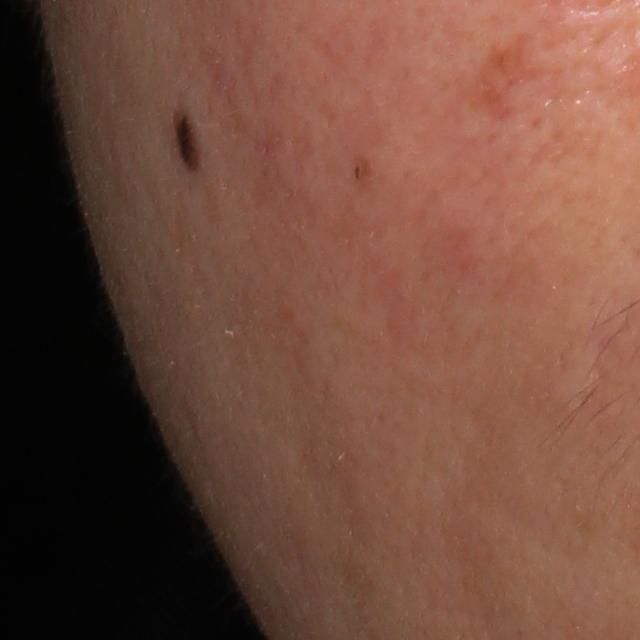atrophic_scar: (467, 26, 565, 126)
nevus: (169, 106, 208, 175)
